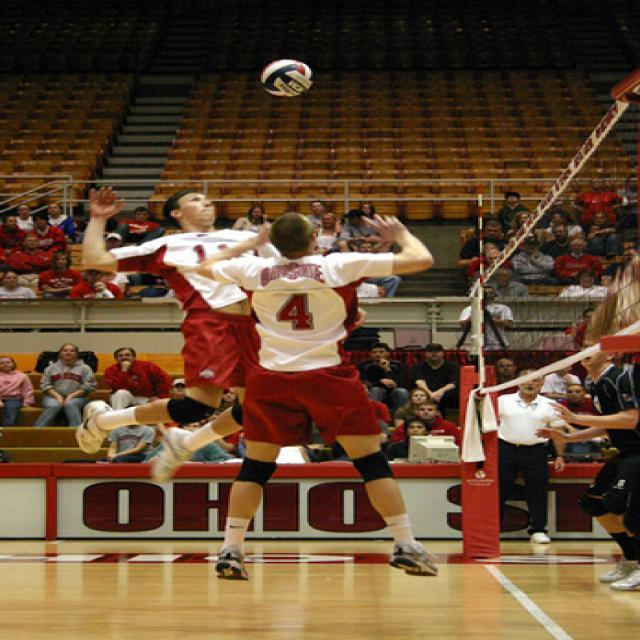volleyball: (260, 58, 314, 98)
